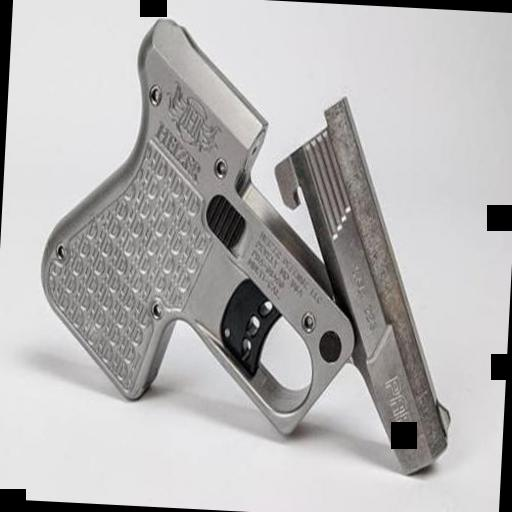Handgun: (28, 9, 478, 476)
